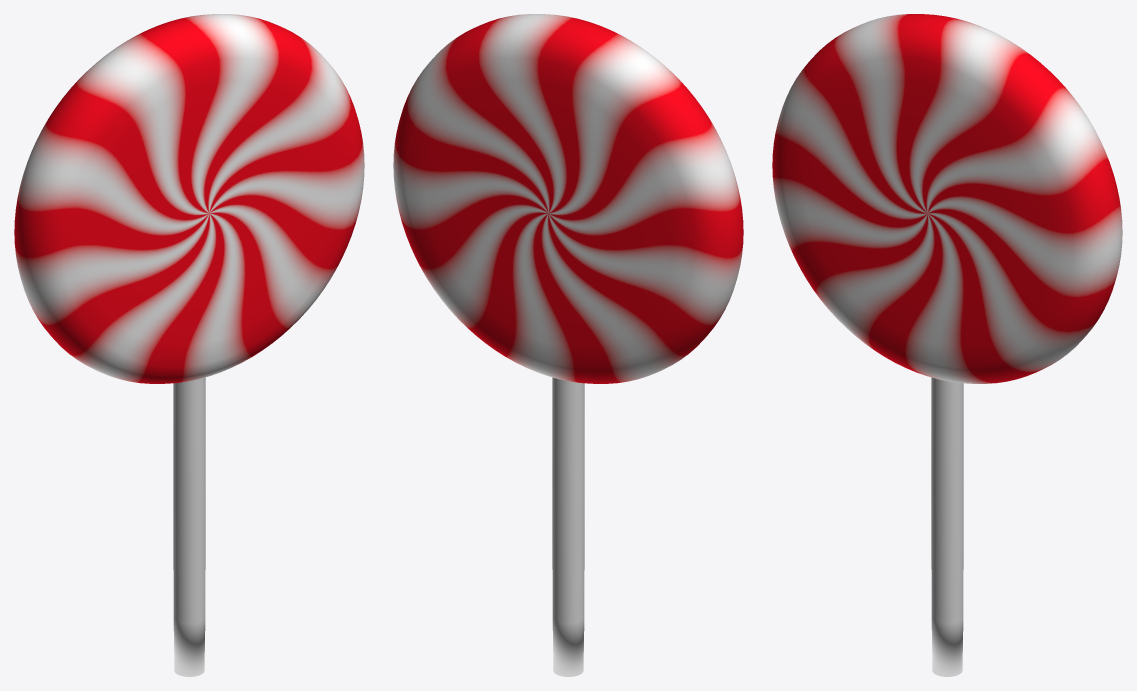
The model's file is LOLLIPOP_1fbx.fbx.
The picture shows the model from 3 angles, left to right: view 1: azimuth 30°, elevation 25°; view 2: azimuth 150°, elevation 25°; view 3: azimuth 330°, elevation 25°; orthographic projection.
Visible parts, largest first — view 1: peppermintModel; view 2: peppermintModel; view 3: peppermintModel.
Part boxes in pixels (x1,y1,x2,y2): peppermintModel: (14, 14, 364, 676); peppermintModel: (393, 14, 743, 676); peppermintModel: (772, 14, 1122, 676).
Size of the model in its own units: 14.82 by 27.06 by 3.
Materials: 2 (1 with a texture image).
